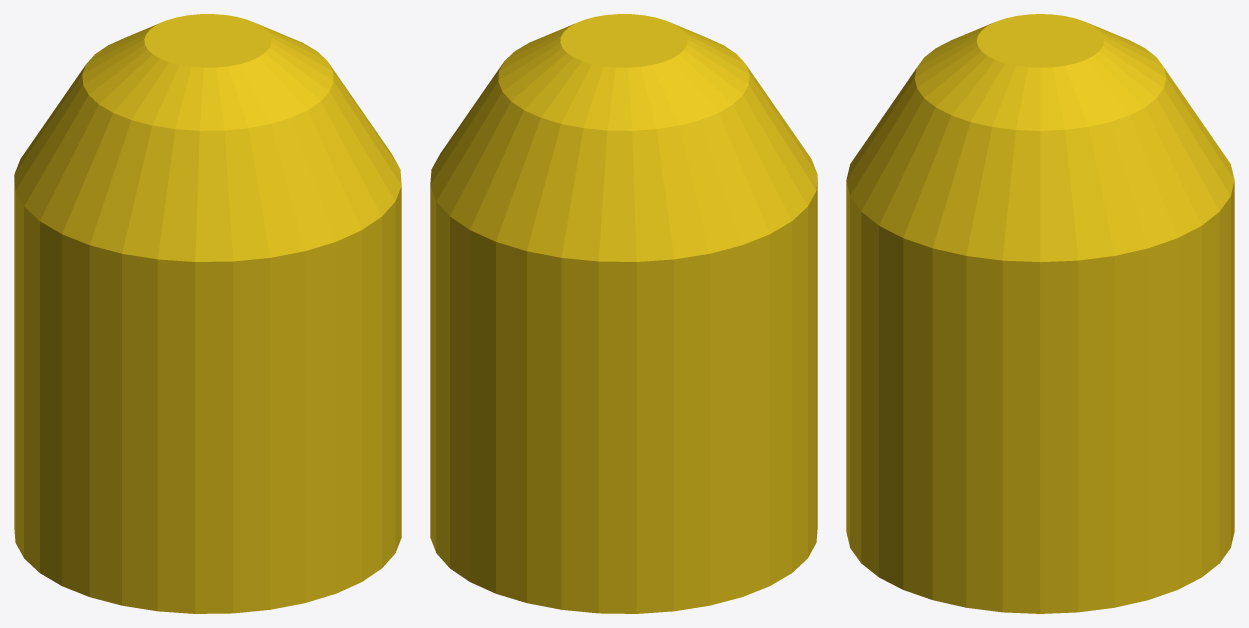
File: Bullet.glb
3 views of the same model, side by side, from view 1: azimuth 30°, elevation 25°; view 2: azimuth 150°, elevation 25°; view 3: azimuth 270°, elevation 25° (orthographic).
Visible parts, largest first — view 1: Cylinder.005; view 2: Cylinder.005; view 3: Cylinder.005.
Part boxes in pixels (left/top/right/bottom): Cylinder.005: left=14, top=14, right=401, bottom=613; Cylinder.005: left=430, top=14, right=817, bottom=613; Cylinder.005: left=846, top=14, right=1234, bottom=613.
Bounding box in the file's own units: 2 × 2.79 × 2.
